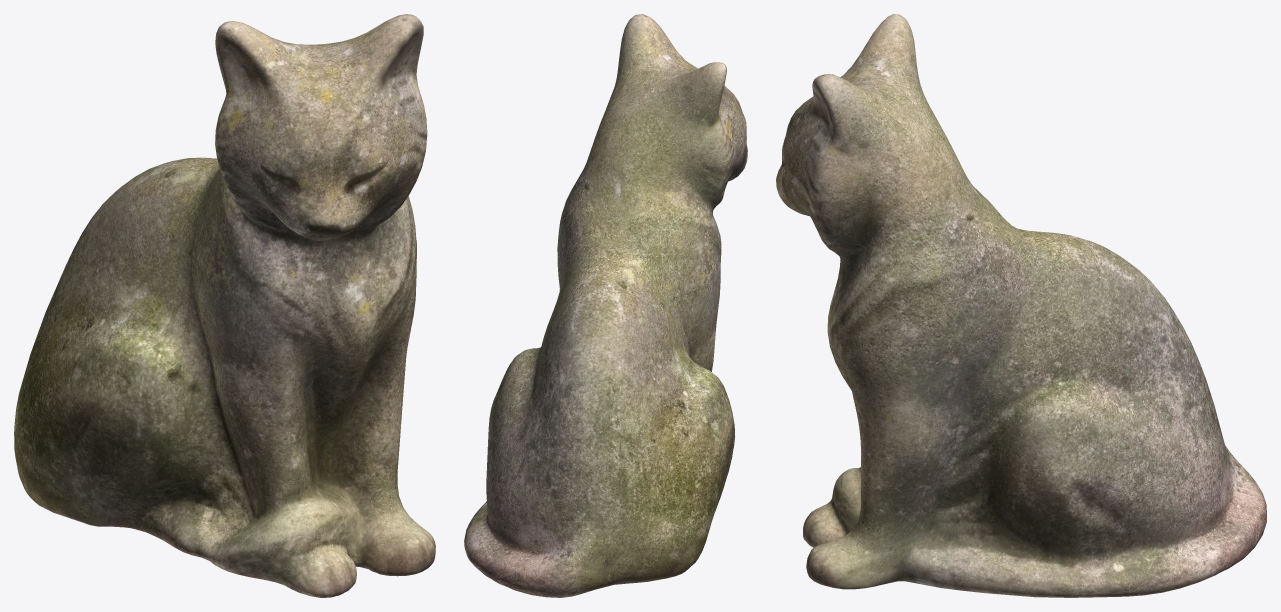
The model's file is concrete_cat_statue.glb.
The picture shows the model from 3 angles, left to right: view 1: azimuth 30°, elevation 25°; view 2: azimuth 150°, elevation 25°; view 3: azimuth 270°, elevation 25°; orthographic projection. The views are drawn at different scales.
Visible parts, largest first — view 1: concrete_cat_statue; view 2: concrete_cat_statue; view 3: concrete_cat_statue.
Part boxes in pixels (x1,y1,x2,y2): concrete_cat_statue: (14, 14, 435, 597); concrete_cat_statue: (464, 14, 747, 597); concrete_cat_statue: (776, 14, 1266, 597).
Size of the model in its own units: 0.153 by 0.283 by 0.25.
Materials: 1 (1 with a texture image).
